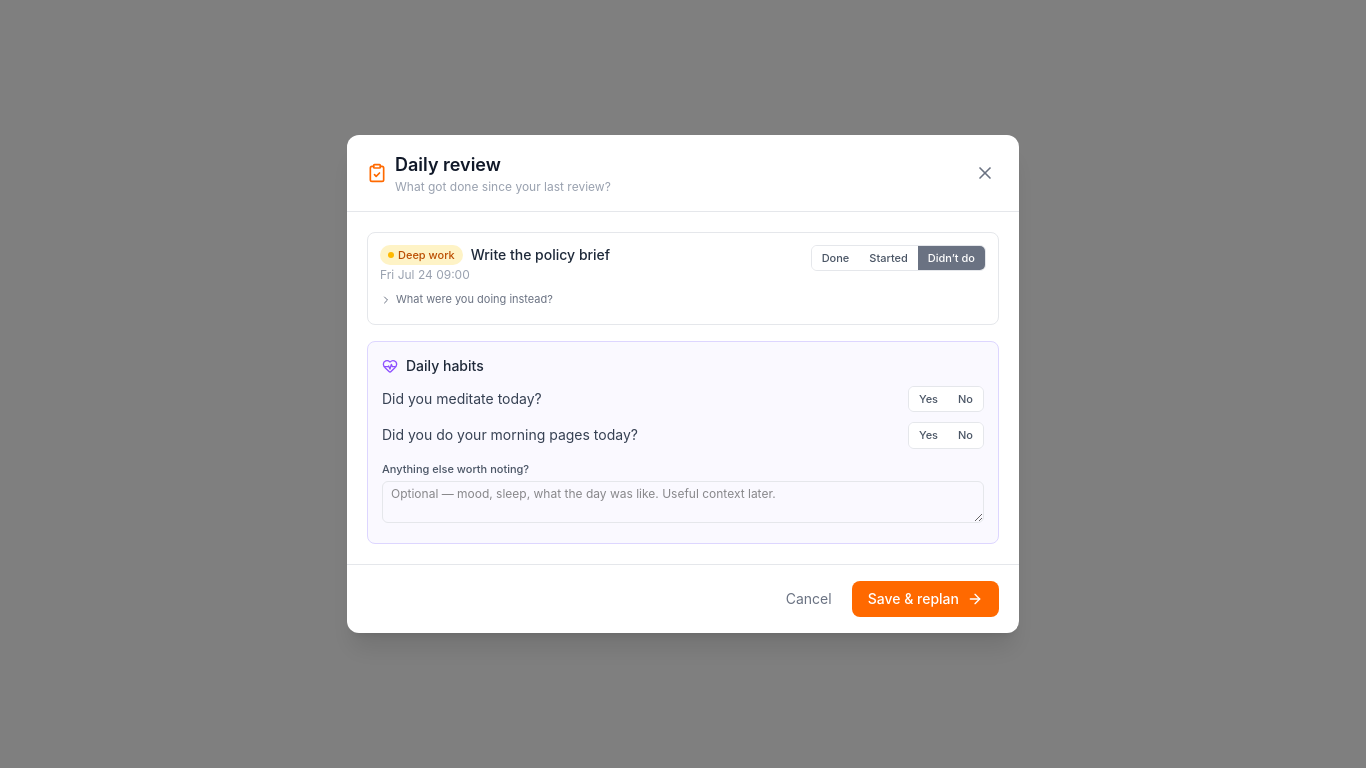
it: DailyReviewModal — step 1 outcomes and replacements › applies successfully with nothing marked
Click the button "Save & replan": coordinates (925, 599) [852,581,999,617]
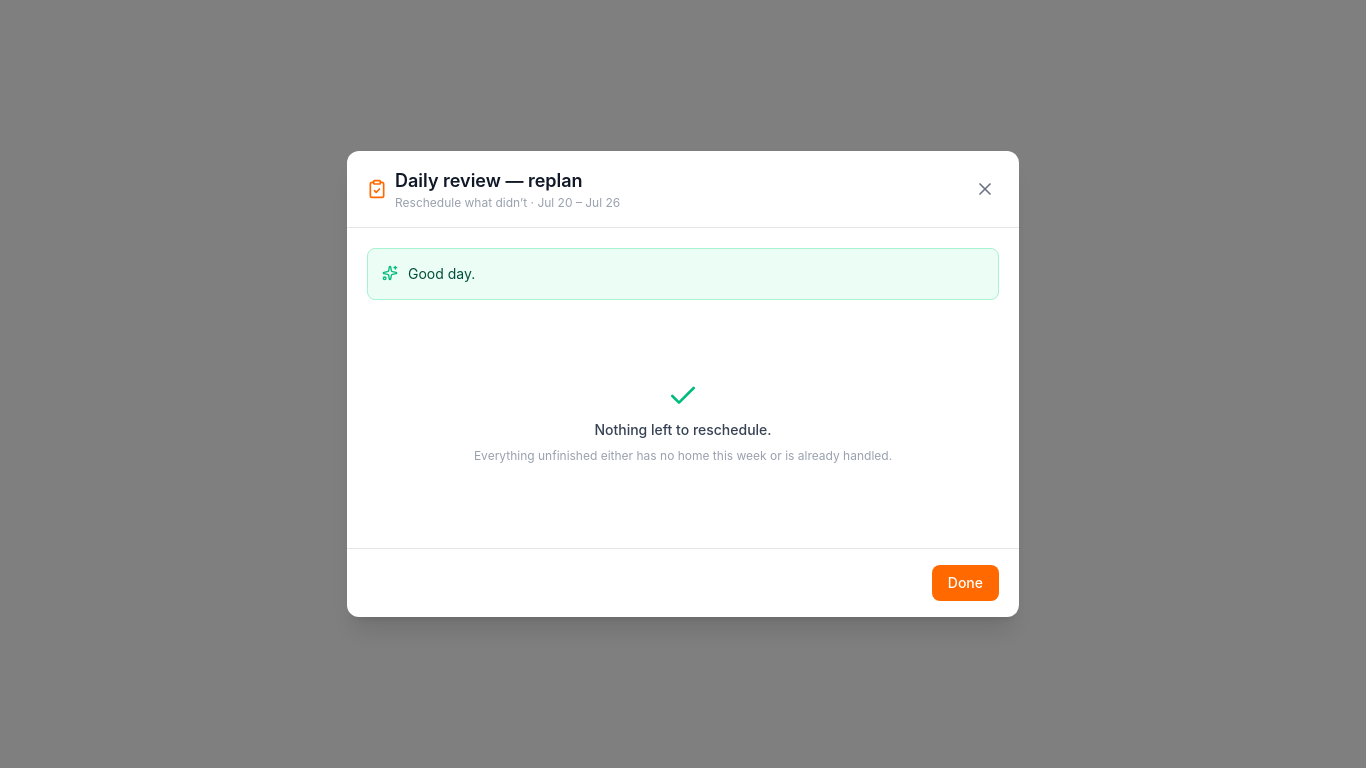
Check: the button "Done" is shown, box [932,565,999,601]
